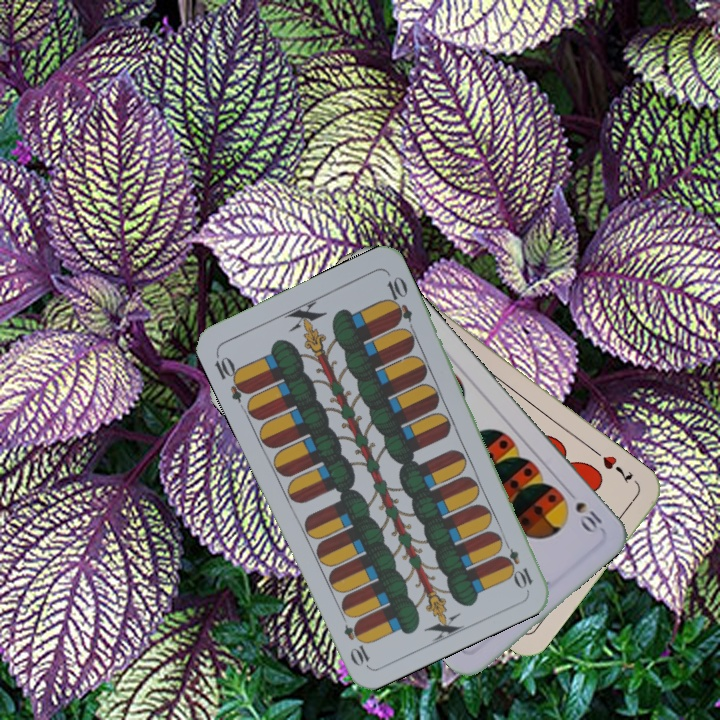E10: (210, 349, 253, 405), (497, 534, 536, 591)
H7: (589, 445, 636, 487)
S10: (562, 486, 606, 537)
